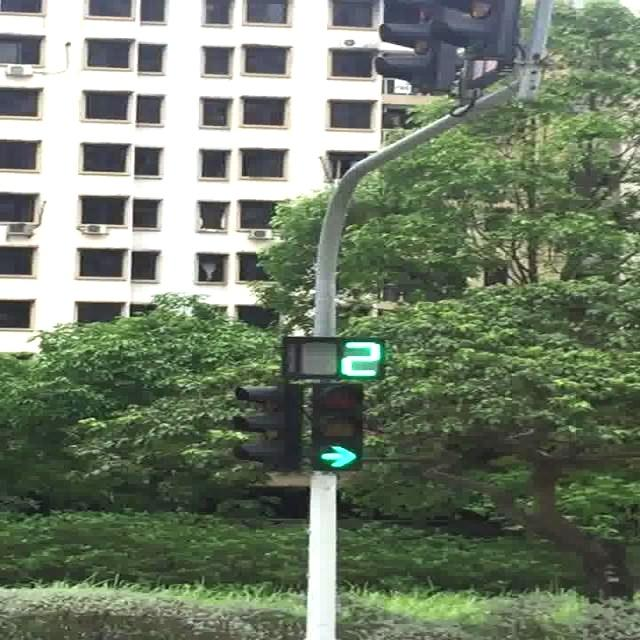Green: (307, 384, 363, 472)
